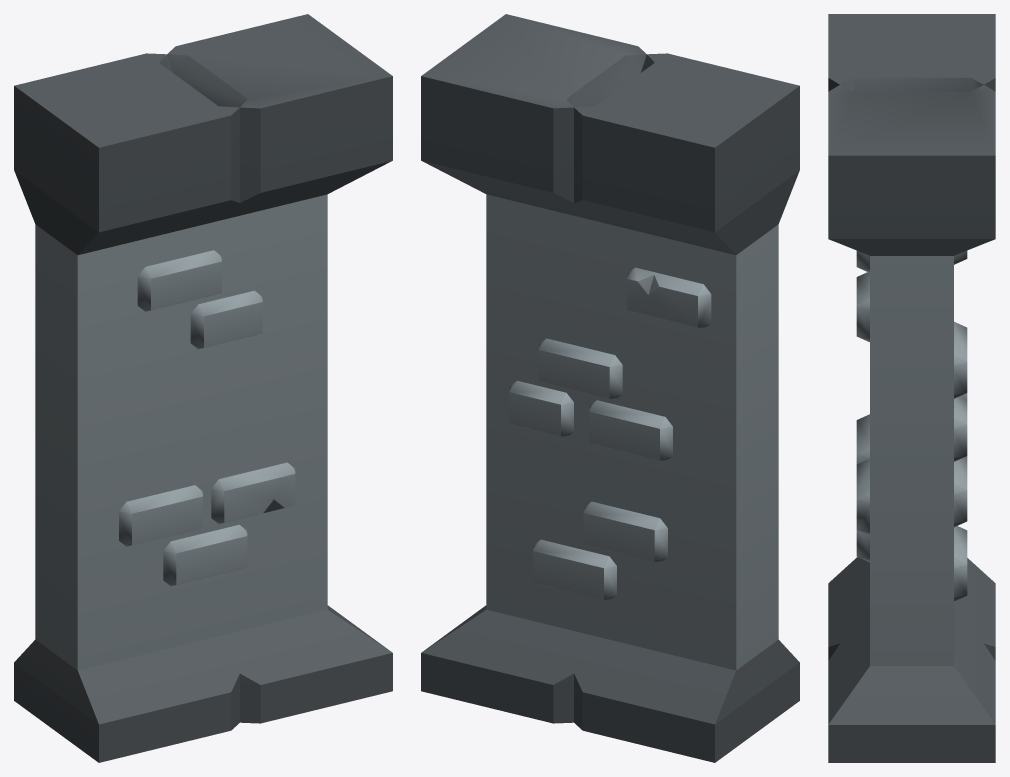
Rendered from wall_half_endcap.gltf.
The picture shows the model from 3 angles, left to right: view 1: azimuth 30°, elevation 25°; view 2: azimuth 150°, elevation 25°; view 3: azimuth 270°, elevation 25°; orthographic projection.
Parts seen in each view (by area): view 1: wall_half_endcap; view 2: wall_half_endcap; view 3: wall_half_endcap.
Boxes of the visible parts, x1=… form: wall_half_endcap: x1=14, y1=14, x2=392, y2=762; wall_half_endcap: x1=421, y1=14, x2=799, y2=762; wall_half_endcap: x1=828, y1=14, x2=995, y2=762.
Bounding box in the file's own units: 2 × 4 × 1.
Materials: 1 (1 with a texture image).
